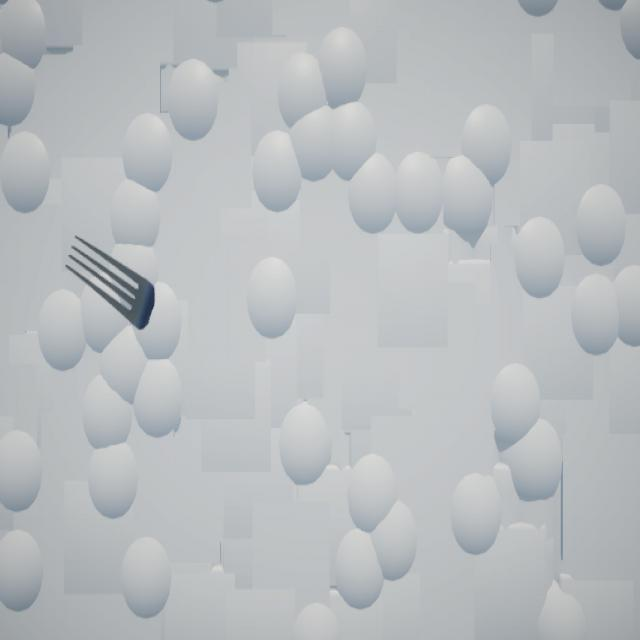top_folk: (67, 236, 157, 332)
